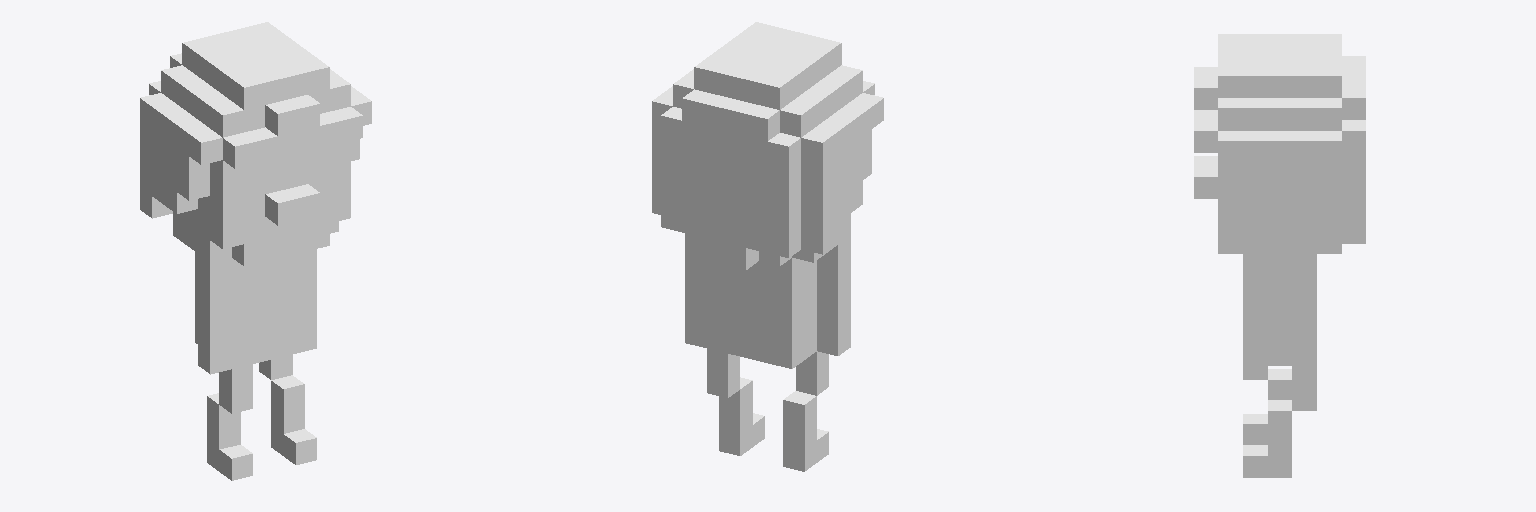
The model's file is Runner-01.obj.
3 renders of one model, left to right at view 1: azimuth 30°, elevation 25°; view 2: azimuth 150°, elevation 25°; view 3: azimuth 270°, elevation 25°, orthographic.
Bounding box in the file's own units: 8 × 18 × 7.